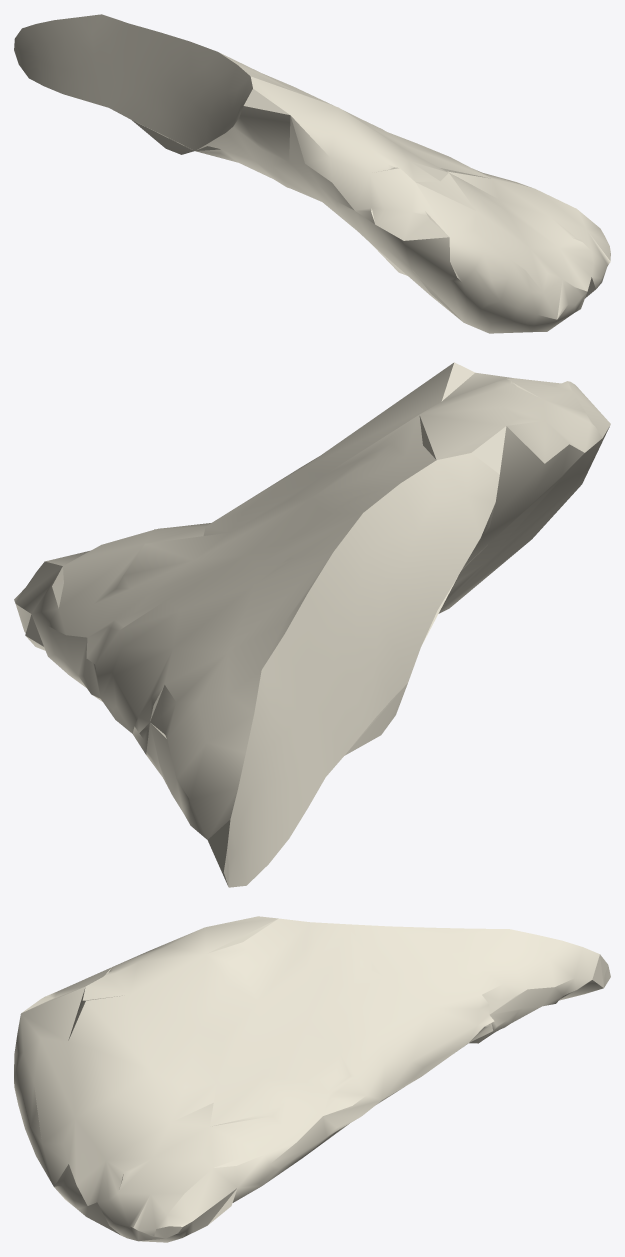
The model's file is fma44236_mm1365.glb.
3 views of the same model, one above another, from view 1: azimuth 30°, elevation 25°; view 2: azimuth 150°, elevation 25°; view 3: azimuth 270°, elevation 25° (orthographic). The views are drawn at different scales.
Parts seen in each view (by area): view 1: FMA44236_MM1365; view 2: FMA44236_MM1365; view 3: FMA44236_MM1365.
Boxes of the visible parts, x1,y1,x2,y2 form: FMA44236_MM1365: (14,14,610,333); FMA44236_MM1365: (14,362,610,887); FMA44236_MM1365: (14,916,610,1242).
Size of the model in its own units: 0.00999 by 0.00615 by 0.0158.
